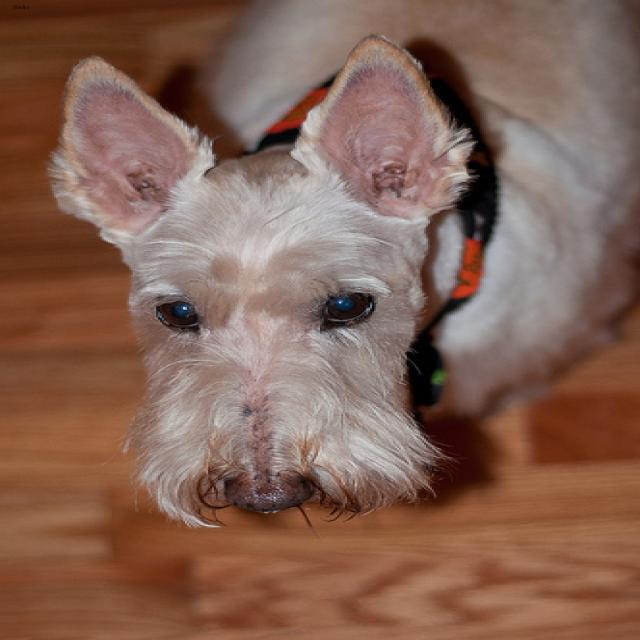dog-scottish_terrier: (33, 1, 636, 545)
